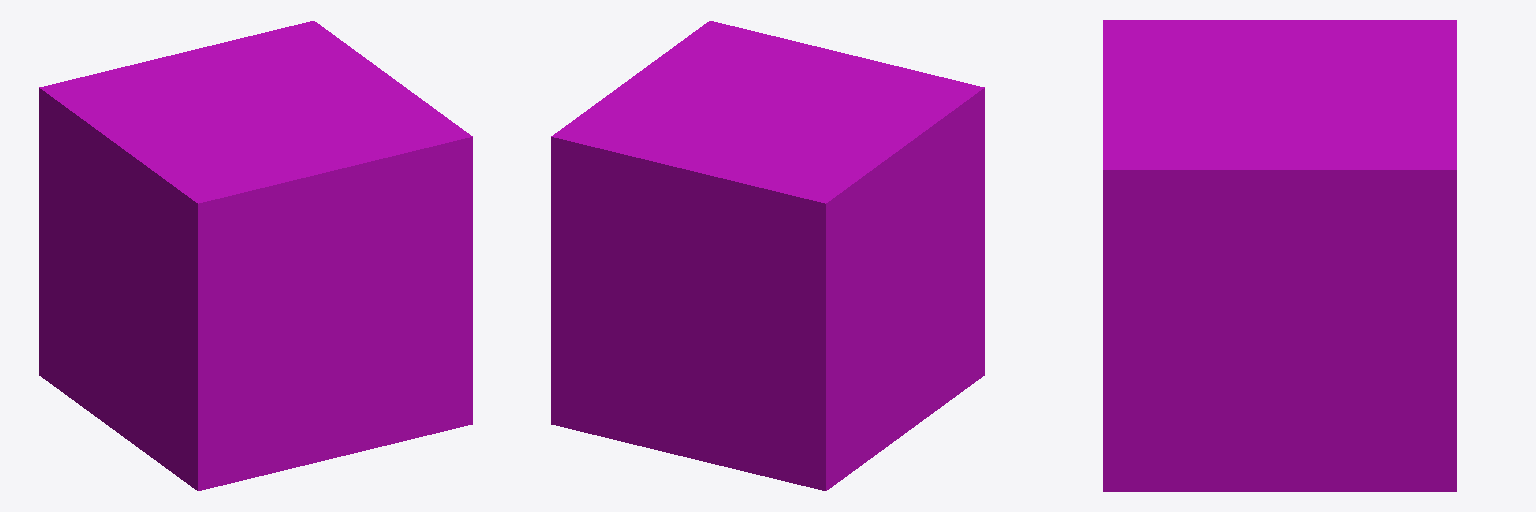
URDF robot description (simple_cuboid):
<?xml version="1.0"?>
<robot name="simple_cuboid">
  <link name="base_link">
    <inertial>
      <origin xyz="0 0 0" rpy="0 0 0" />
      <mass value="0.1" />
      <inertia ixx="0.000167" ixy="0" ixz="0" iyy="0.000167" iyz="0"
          izz="0.000167" />
    </inertial>
    <visual>
      <origin xyz="0 0 0" rpy="0 0 0" />
      <geometry>
        <box size="0.1 0.1 0.1" />
      </geometry>
      <material name="purple">
        <color rgba="0.8 0.1 0.8 1" />
      </material>
    </visual>

    <!--
      This places contact spheres on the corners of the visual box and a
      *slightly* smaller inset contact box (centered on the visual origin). This
      accounts for issues in the contact computation providing stable table
      contact *and* supports grasping.

      When the box is in stable contact with the ground plane, the corner
      spheres will provide fixed contact points (simulating distributed contact
      points around the face).  However, for arbitrary grip configuration, the
      slightly inset box will provide contact with a *slight* offset (in this
      case a deviation of 0.0005 m from the visual surface).

      https://github.com/RobotLocomotion/drake/issues/6254 tracks the
      difficulty in supporting face-to-face contact.
     -->
    <collision>
      <geometry>
        <box size="0.1 0.1 0.1" />
      </geometry>
    </collision>



   </link>
</robot>

--- What the picture shows (computed from the rendered views, not written in the file) ---
3 views of the same robot in one strip: view 1: azimuth 30°, elevation 25°; view 2: azimuth 150°, elevation 25°; view 3: azimuth 270°, elevation 25° (orthographic).
Robot: simple_cuboid — 1 links, 0 joints (none); root link base_link; default pose: all joints at 0.
Visible links, largest first — view 1: base_link; view 2: base_link; view 3: base_link.
Link boxes in pixels (bbox=[...]): base_link: bbox=[39, 21, 472, 490]; base_link: bbox=[551, 21, 984, 490]; base_link: bbox=[1103, 20, 1456, 491].
Bounding box of the posed robot: 0.1 × 0.1 × 0.1 m (x, y, z).
Geometry: primitives only (box / cylinder / sphere), no mesh files.